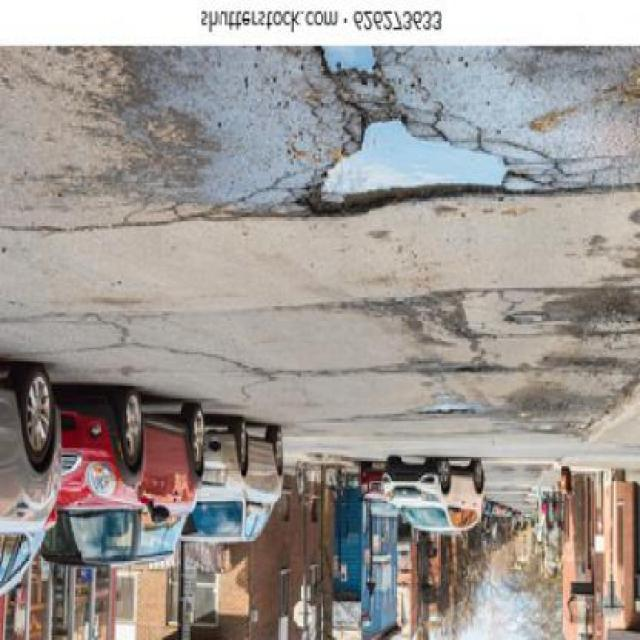Pothole: (305, 105, 529, 224), (315, 47, 388, 86), (424, 401, 484, 418)
